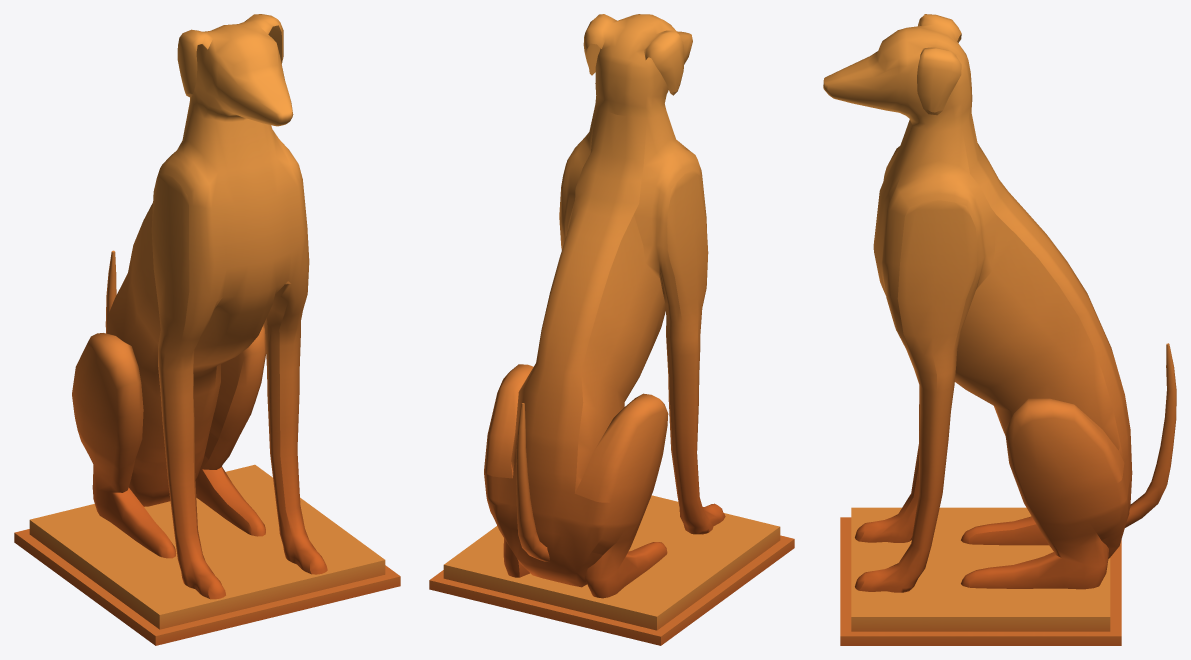
The model's file is dogStatue_finished.fbx.
The picture shows the model from 3 angles, left to right: view 1: azimuth 30°, elevation 25°; view 2: azimuth 150°, elevation 25°; view 3: azimuth 270°, elevation 25°; orthographic projection. The views are drawn at different scales.
Visible parts, largest first — view 1: dogStatue; view 2: dogStatue; view 3: dogStatue.
Boxes of the visible parts, box(x1,y1,x2,y2) form: dogStatue: box(14, 14, 400, 645); dogStatue: box(429, 14, 794, 645); dogStatue: box(823, 14, 1176, 645).
Size of the model in its own units: 1.12 by 2.44 by 1.41.
